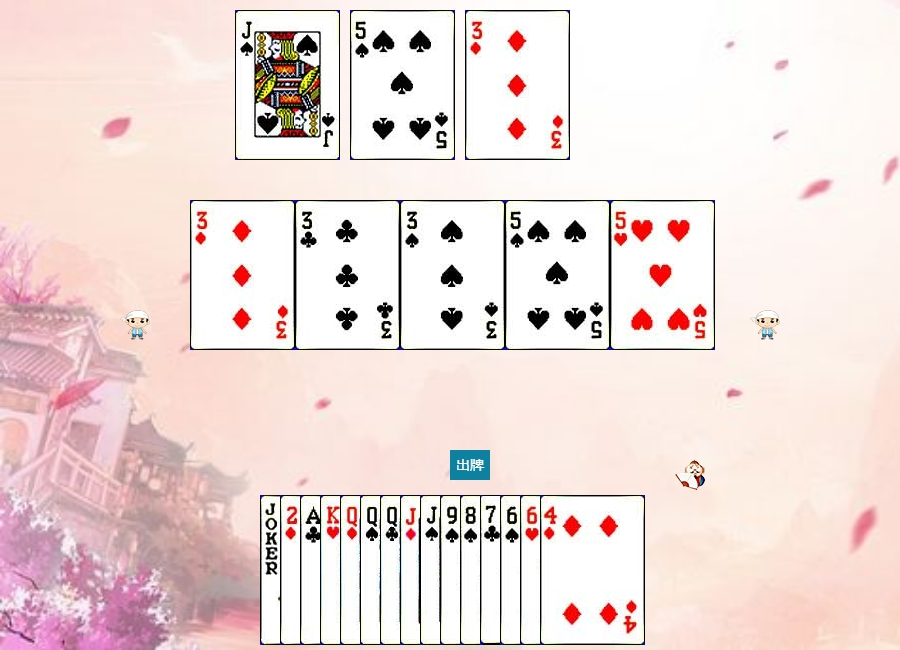11~1: (400, 495, 505, 645)
11~4: (235, 10, 340, 160), (420, 495, 525, 645)
12~1: (340, 495, 445, 645)
12~2: (380, 495, 485, 645)
12~4: (360, 495, 465, 645)
13~3: (320, 495, 425, 645)
14~2: (300, 495, 405, 645)
15~1: (280, 495, 385, 645)
17~3: (260, 495, 365, 645)
3~1: (465, 10, 570, 160), (190, 200, 295, 350)
3~2: (295, 200, 400, 350)
3~4: (400, 200, 505, 350)
4~1: (540, 495, 645, 645)
5~3: (610, 200, 715, 350)
5~4: (350, 10, 455, 160), (505, 200, 610, 350)
6~3: (520, 495, 625, 645)
6~4: (500, 495, 605, 645)
7~2: (480, 495, 585, 645)
8~4: (460, 495, 565, 645)
9~4: (440, 495, 545, 645)
